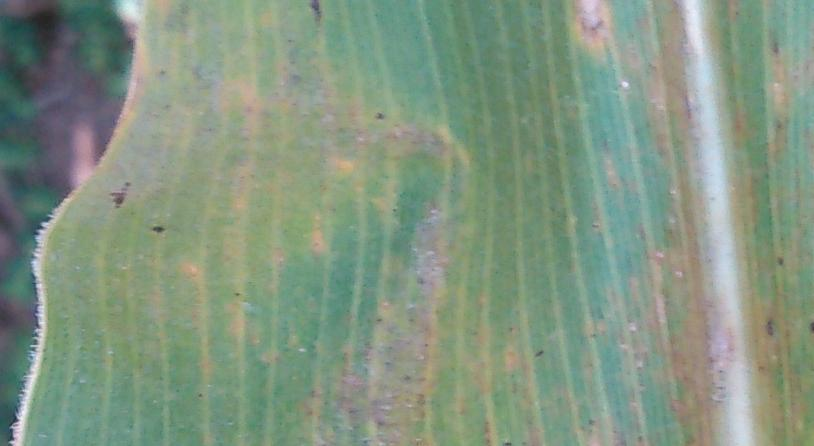tarspot: (111, 179, 131, 211), (310, 1, 324, 33), (762, 315, 776, 339), (370, 108, 388, 123), (585, 411, 599, 430), (769, 37, 782, 57), (773, 251, 787, 269), (149, 222, 166, 234), (157, 63, 167, 80), (402, 371, 415, 384), (533, 349, 547, 361), (231, 287, 242, 301), (372, 315, 385, 326), (807, 317, 814, 337), (634, 433, 645, 445), (195, 387, 204, 400), (502, 439, 516, 446)
